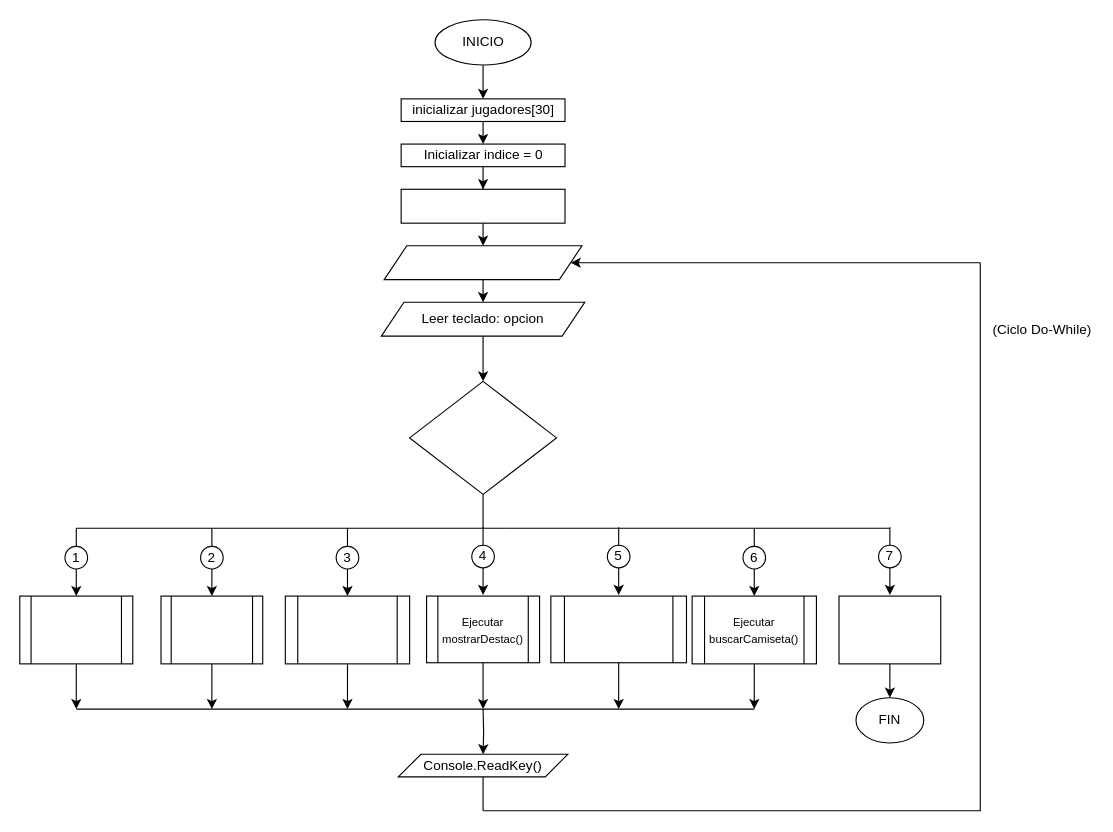
This 1113x832 diagram has some shape labels left out. Each missing label, with the centre of its shape:
Ejecutar cargarJugador(): (76,629)
Ejecutar forzarCarga(): (482,205)
Ejecutar mostrarMenu(): (482,262)
Ejecutar mostrarProm(): (211,629)
Ejecutar mostrarRendMedio(): (618,629)
Ejecutar mostrarSinGoles(): (347,629)
Imprimir mensaje despedida: (889,629)
¿Qué valor tiene "opcion"?: (482,437)
